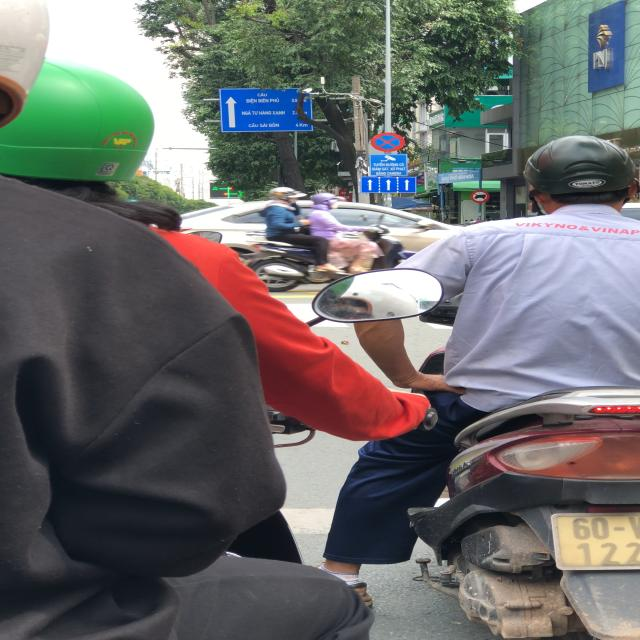Bien bao cam dung xe va do xe: (368, 130, 407, 152)
